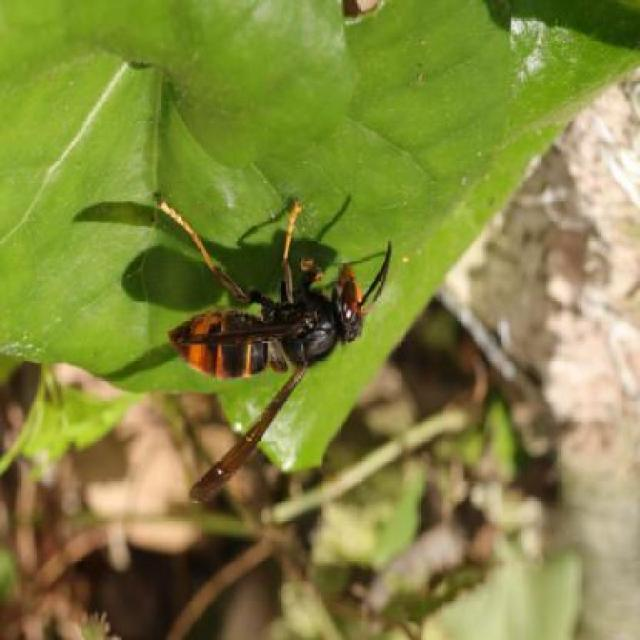Wasp: (106, 150, 395, 511)
